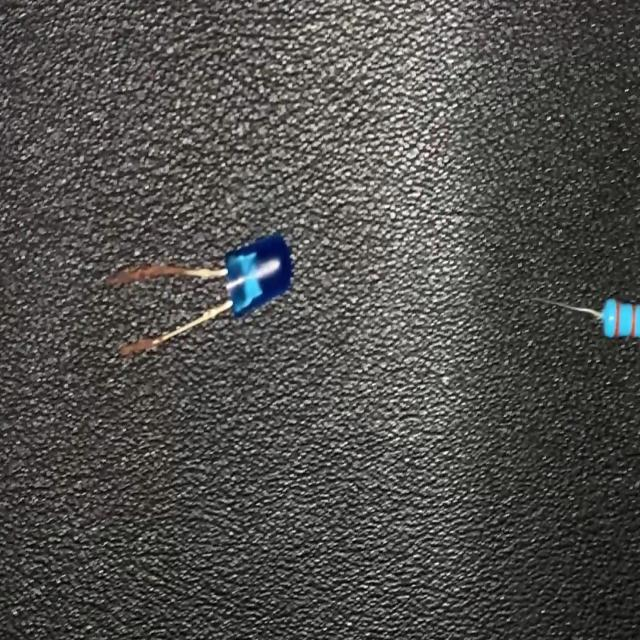LED: (102, 230, 294, 362)
resistor: (529, 290, 640, 342)
rust: (107, 261, 186, 289), (119, 334, 163, 354)
